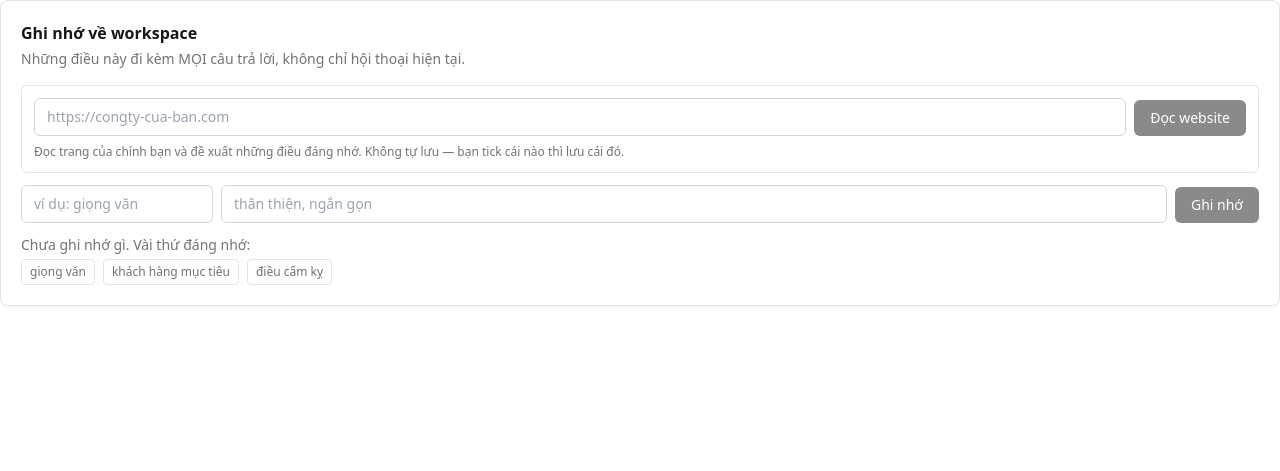
Test: MemoryPanel — reading the workspace's own site › proposes what the site says
The width and height of the screenshot is (1280, 471).
Type "https://tiximax.net/" into the field with placeholder "https://congty-cua-ban.com".
click(580, 117); type("https://tiximax.net/")  # box [34,98,1126,136]
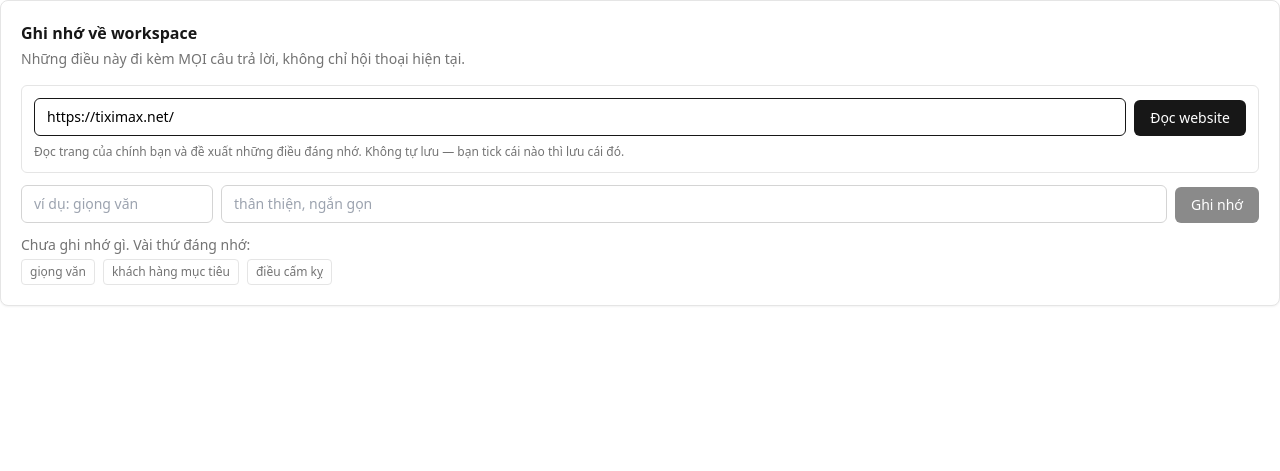
Click the button "Đọc website".
click(1190, 118)  # box [1134,100,1246,136]
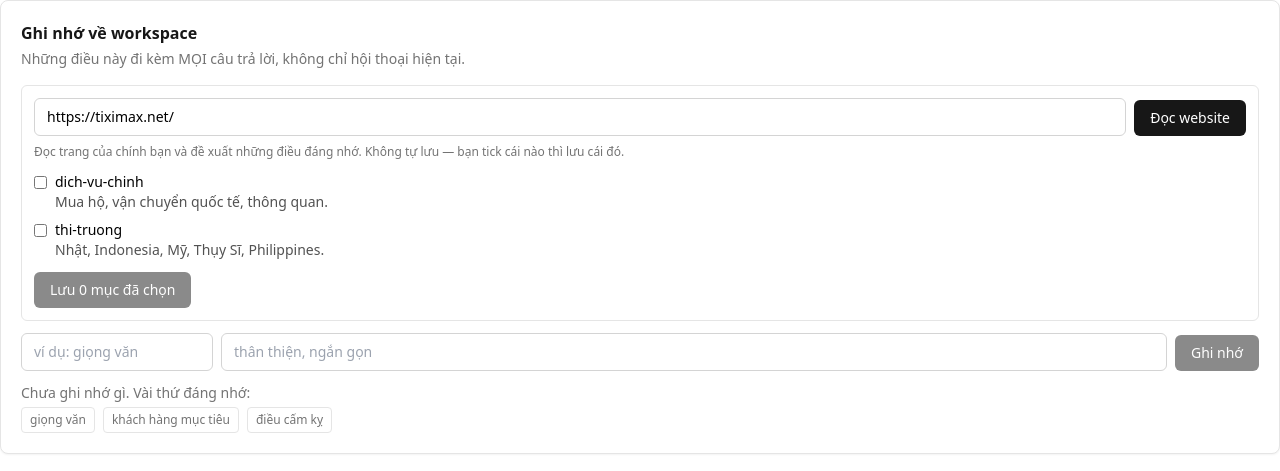
Now the text "dich-vu-chinh" is shown, box [55,172,144,191]
Now the text "Mua hộ, vận chuyển quốc tế, thông quan." is shown, box [55,192,328,212]
